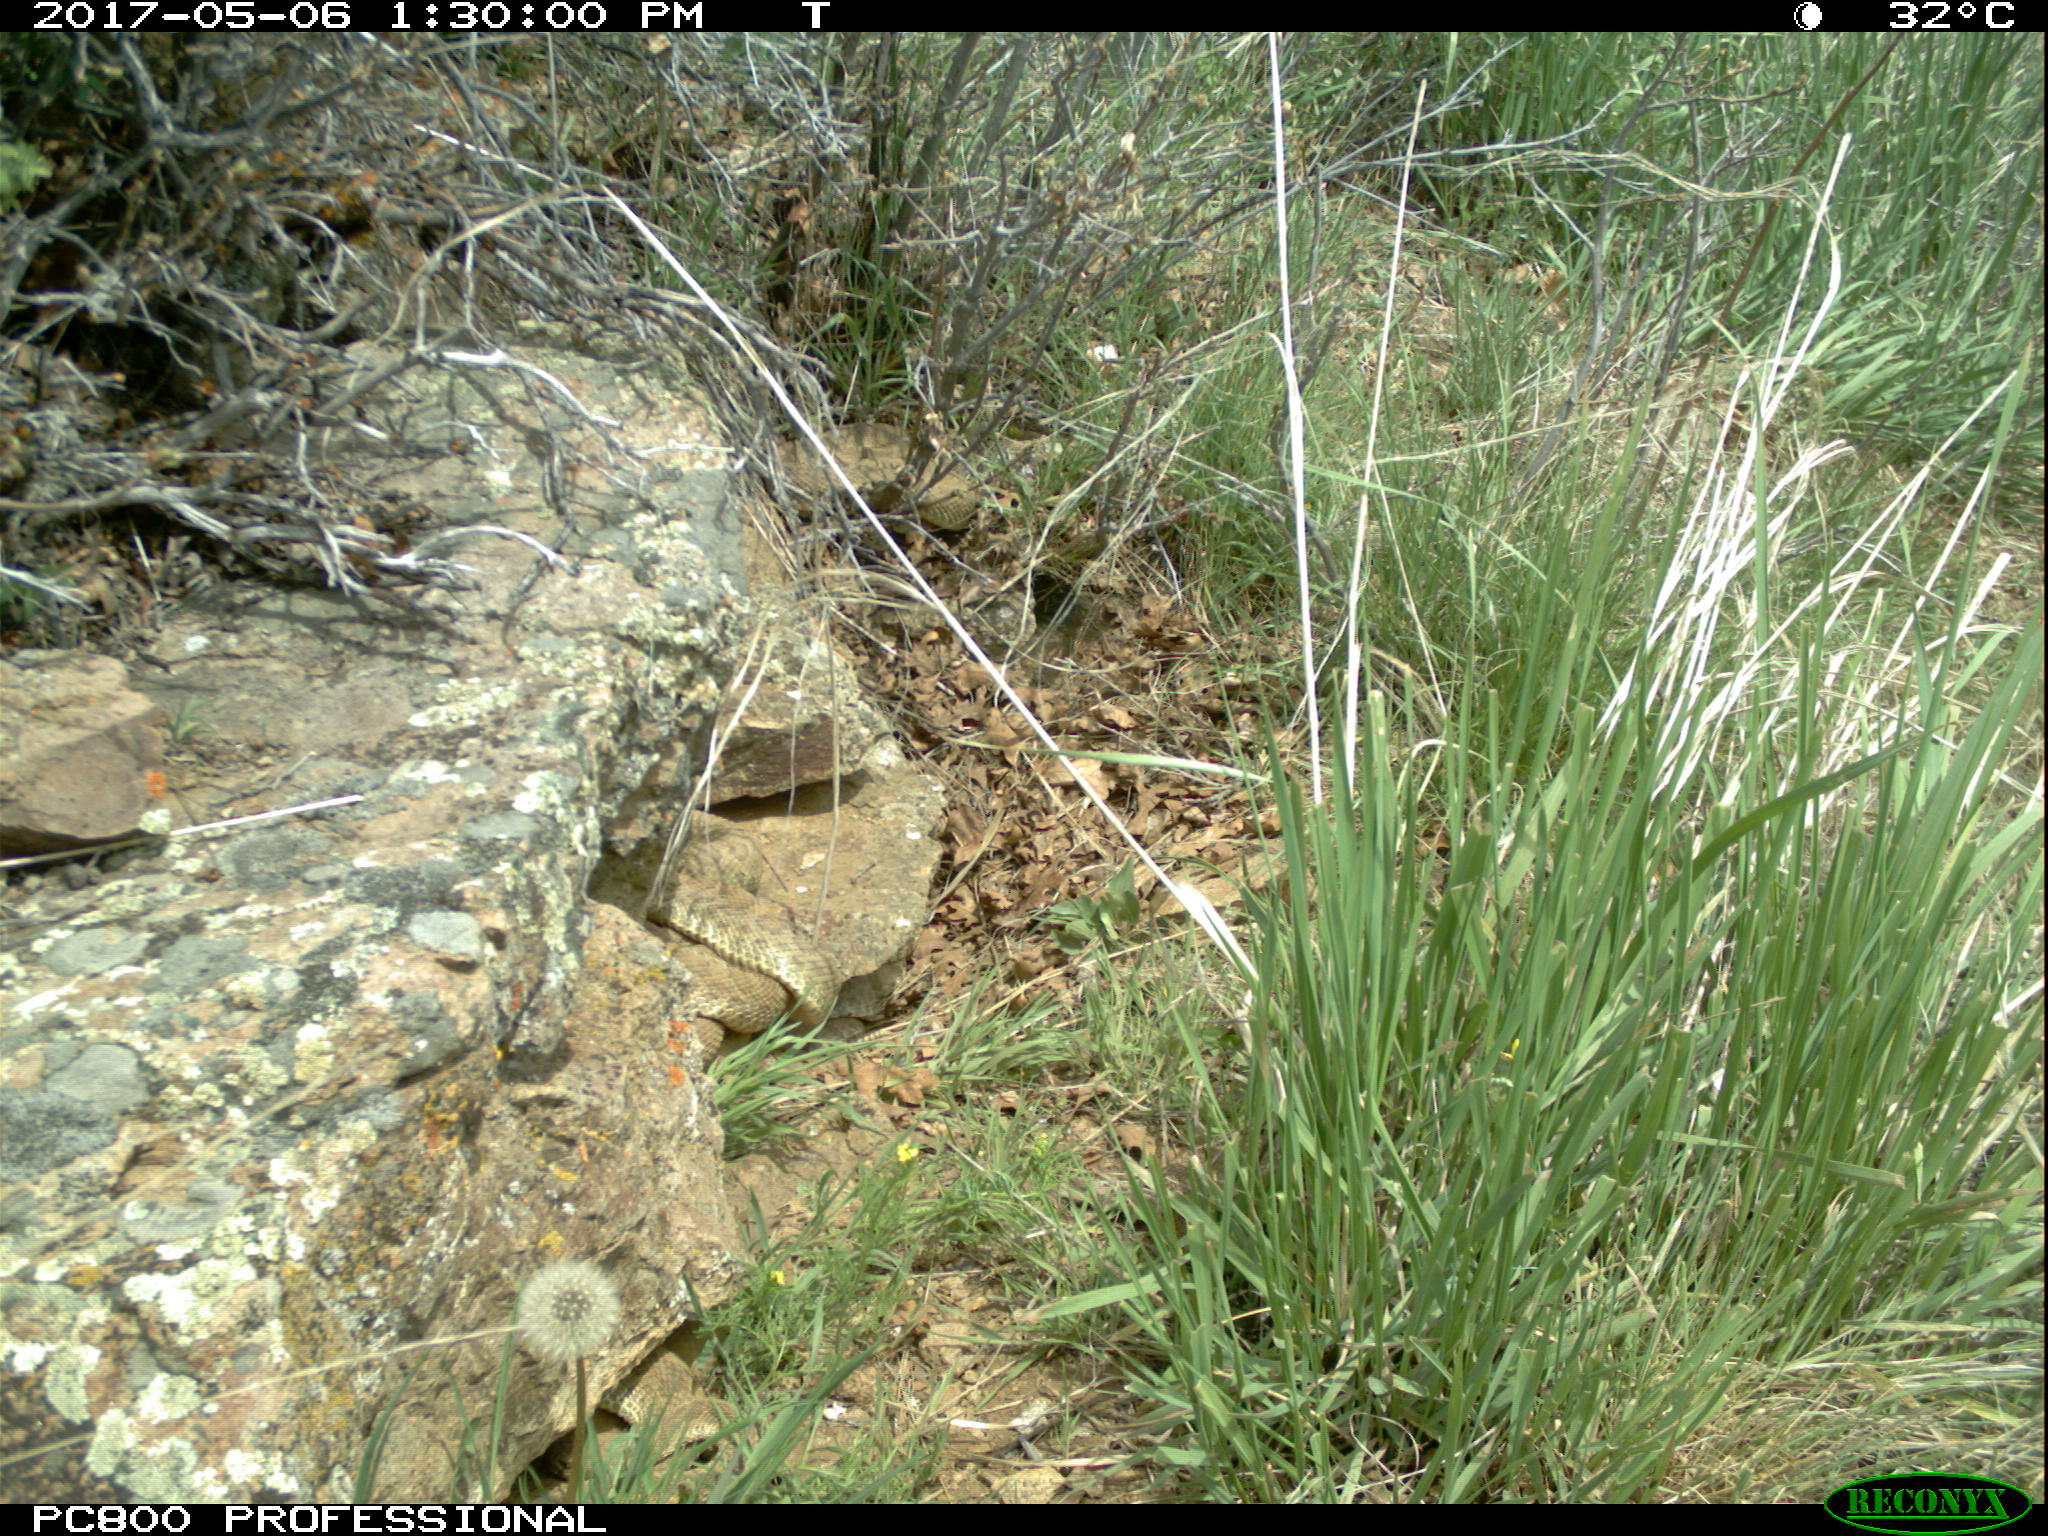snake: (648, 883, 876, 1046), (603, 1365, 787, 1489), (780, 424, 985, 529)
